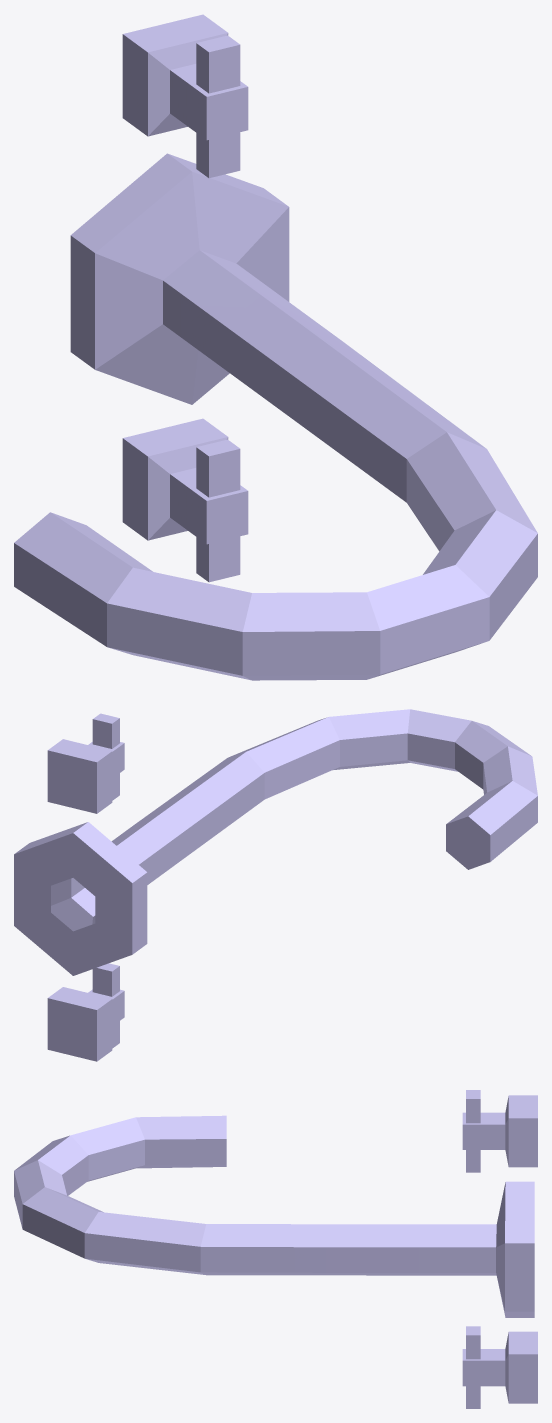
The model's file is faucet.obj.
3 views of the same model, one above another, from view 1: azimuth 30°, elevation 25°; view 2: azimuth 150°, elevation 25°; view 3: azimuth 270°, elevation 25° (orthographic). The views are drawn at different scales.
Visible parts, largest first — view 1: Cube.145_Cube.173_darck_whitr; view 2: Cube.145_Cube.173_darck_whitr; view 3: Cube.145_Cube.173_darck_whitr.
Boxes of the visible parts, bbox=[...] form: Cube.145_Cube.173_darck_whitr: bbox=[14, 14, 537, 680]; Cube.145_Cube.173_darck_whitr: bbox=[14, 709, 537, 1061]; Cube.145_Cube.173_darck_whitr: bbox=[14, 1090, 537, 1408].
Bounding box in the file's own units: 0.0251 × 0.0248 × 0.0379.
